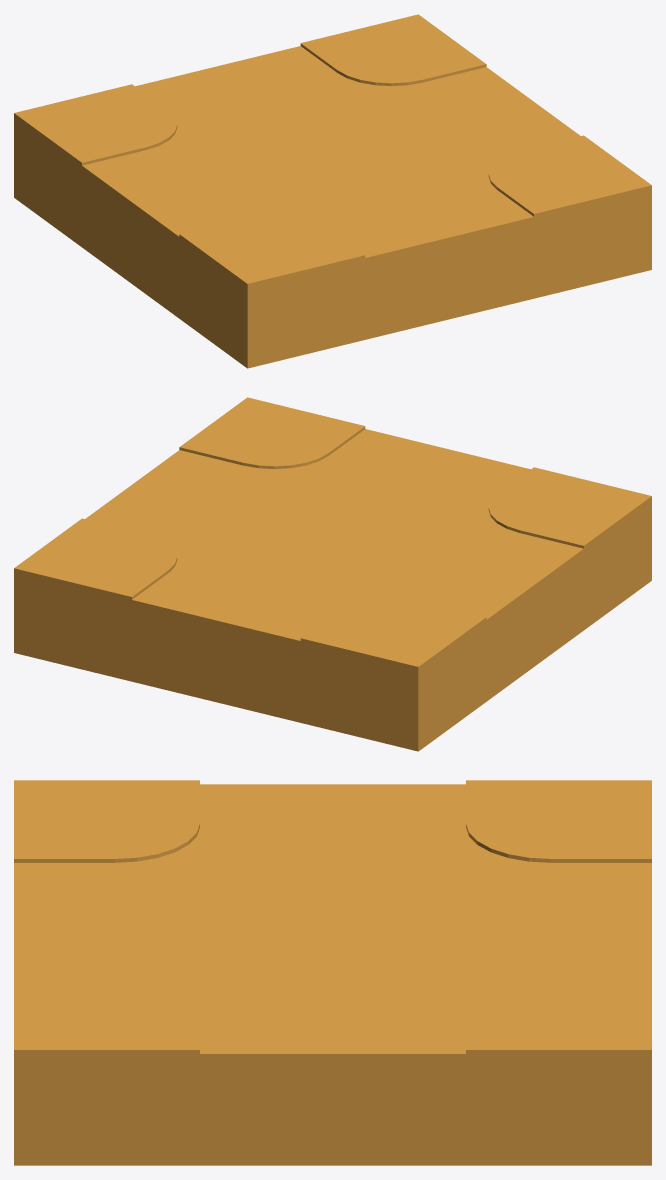
Rendered from tile-mainroad-intersection.glb.
3 renders of one model, top to bottom at view 1: azimuth 30°, elevation 25°; view 2: azimuth 150°, elevation 25°; view 3: azimuth 270°, elevation 25°, orthographic. The views are drawn at different scales.
Parts seen in each view (by area): view 1: tile-mainroad-intersection; view 2: tile-mainroad-intersection; view 3: tile-mainroad-intersection.
Part boxes in pixels (x1,y1,x2,y2): tile-mainroad-intersection: (14,14,651,368); tile-mainroad-intersection: (14,397,651,751); tile-mainroad-intersection: (14,780,651,1165).
Bounding box in the file's own units: 30 × 6 × 30.
